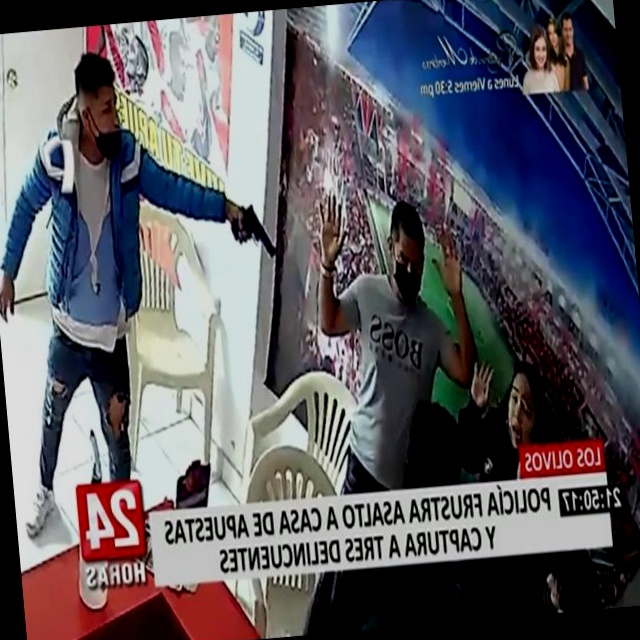gun: (218, 180, 282, 274)
